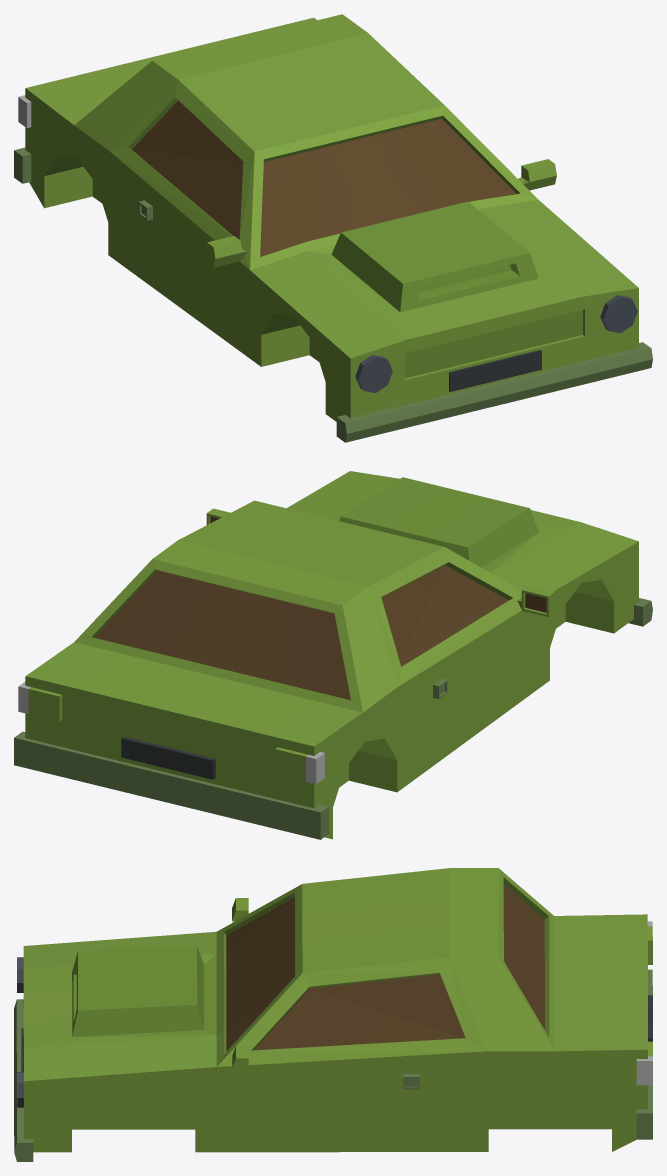
File: Car_06.fbx
3 renders of one model, top to bottom at view 1: azimuth 30°, elevation 25°; view 2: azimuth 150°, elevation 25°; view 3: azimuth 270°, elevation 25°, orthographic. The views are drawn at different scales.
Visible parts, largest first — view 1: Car_06; view 2: Car_06; view 3: Car_06.
Part boxes in pixels (x1=…): Car_06: x1=14, y1=14, x2=652, y2=442; Car_06: x1=14, y1=471, x2=652, y2=839; Car_06: x1=14, y1=868, x2=652, y2=1161.
Bounding box in the file's own units: 1.99 × 1.03 × 3.36.
